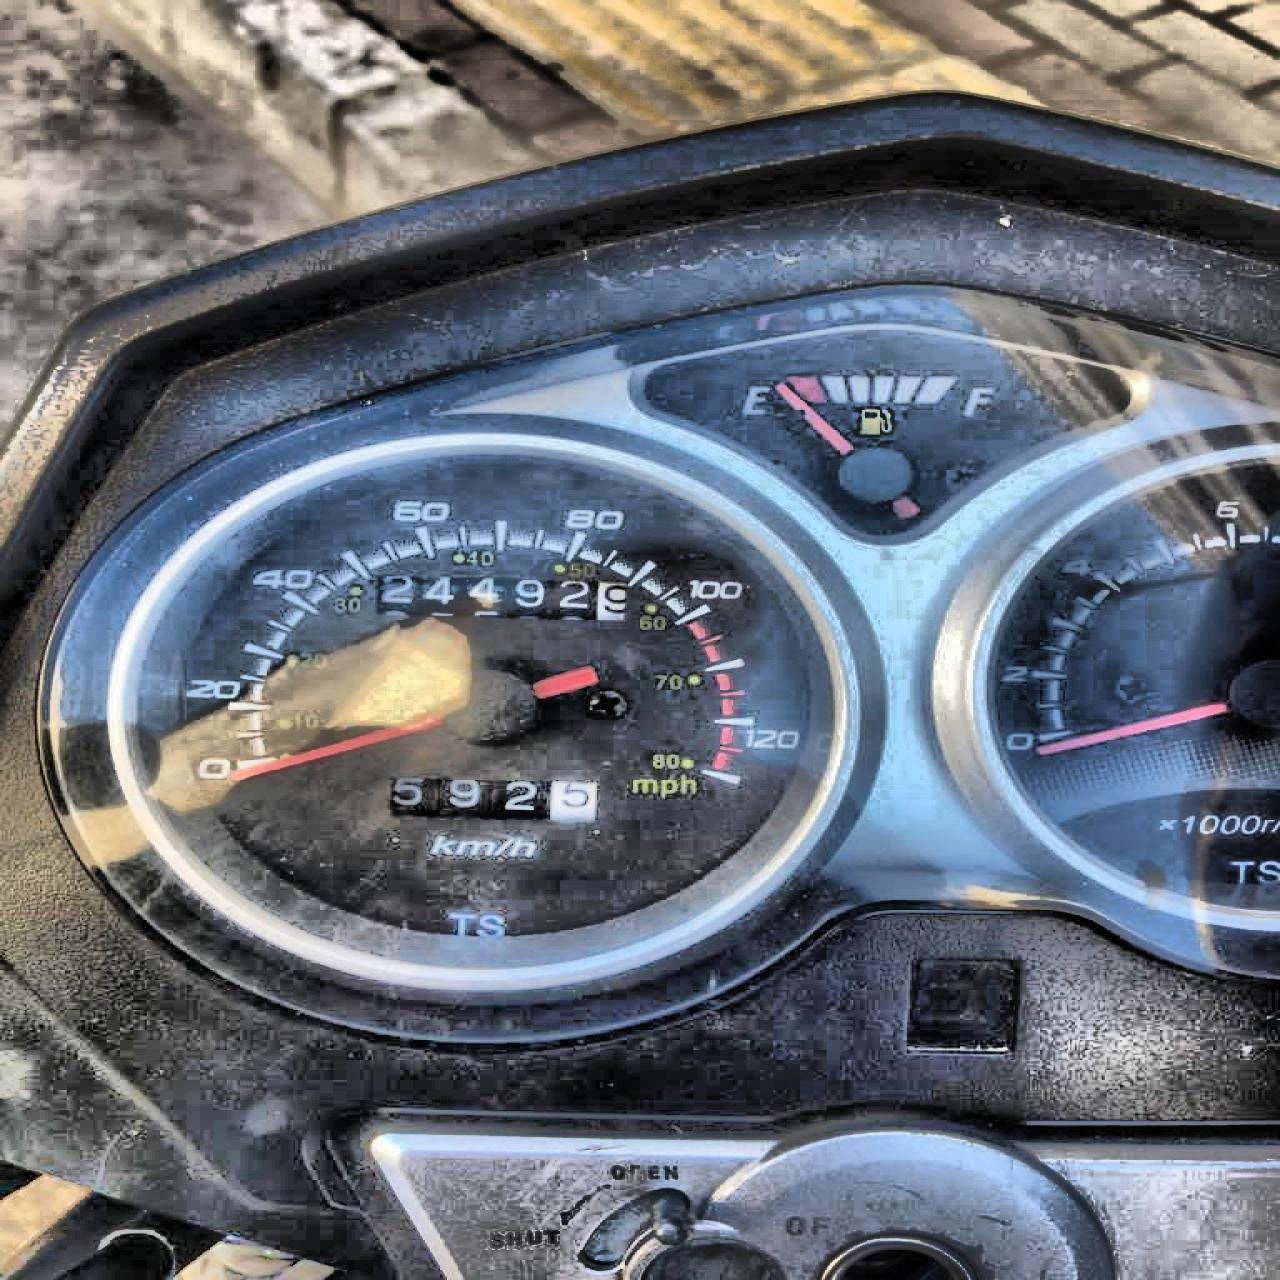2: (382, 573, 414, 602), (558, 579, 587, 607)
4: (423, 577, 454, 604), (467, 577, 497, 601)
9: (513, 578, 544, 606), (601, 584, 628, 614)
odometer: (372, 571, 631, 624)
